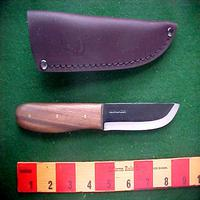knife: (9, 94, 184, 142)
